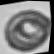correct: (0, 2, 54, 54)
